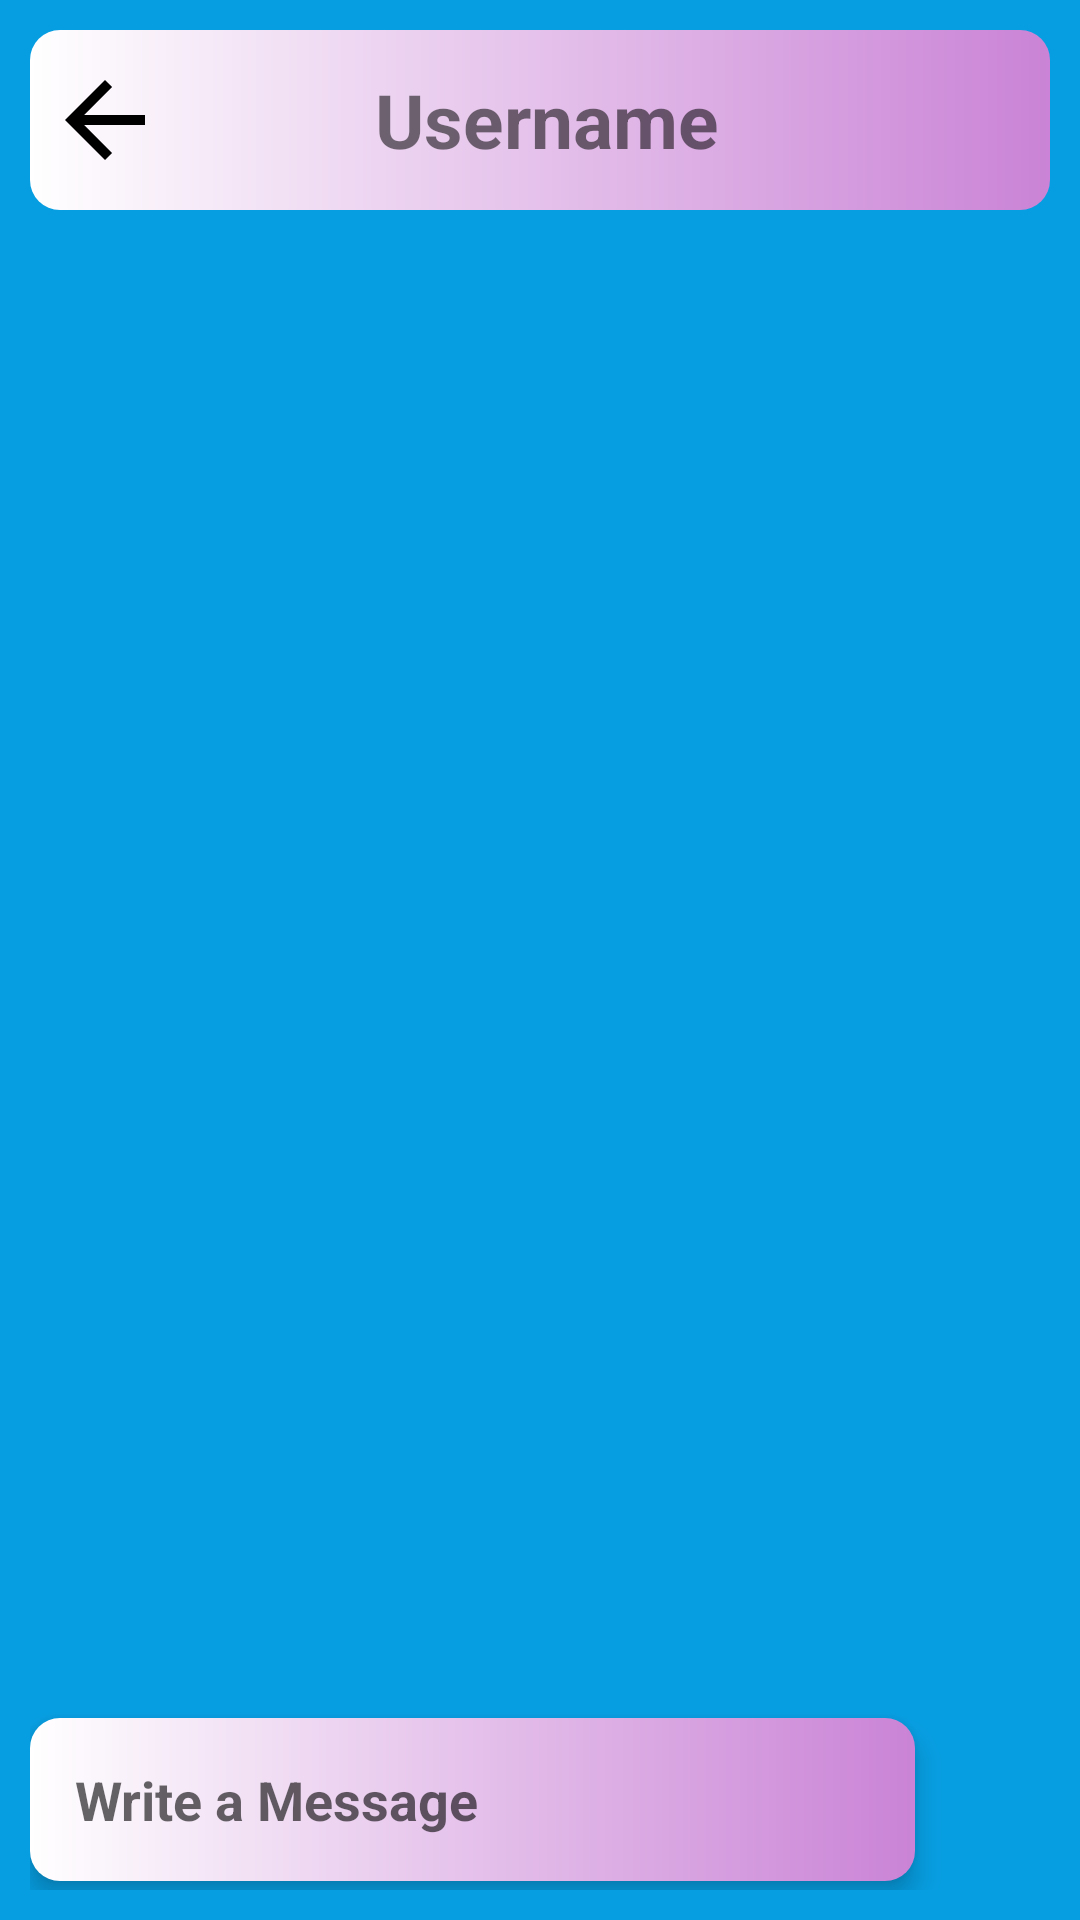

Screen size 1080px×1920px. Icon name, then its box in pixels as (x1=x1, y1=y1, x2=x2, y2=y2):
back: (x1=65, y1=80, x2=145, y2=160)
